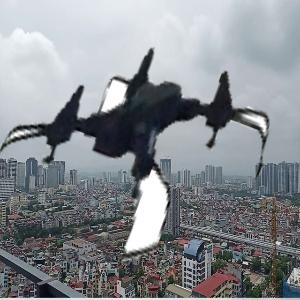drone: (10, 15, 267, 272)
